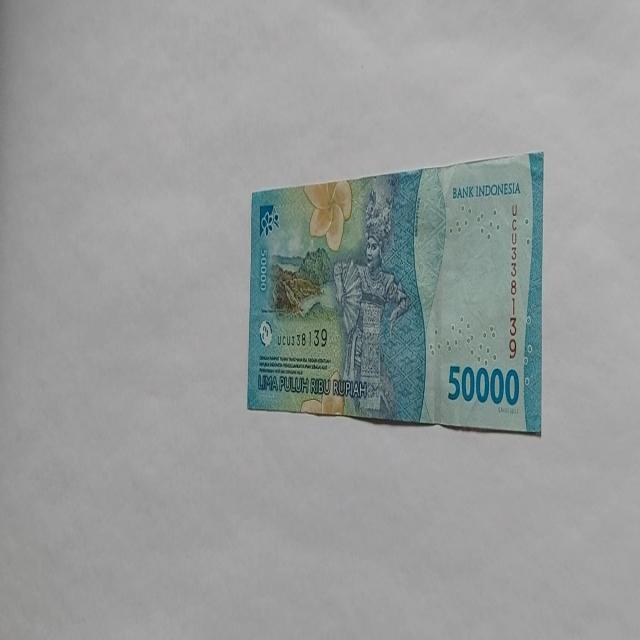lima puluh ribu rupiah: (246, 150, 544, 436), (446, 362, 520, 408)
